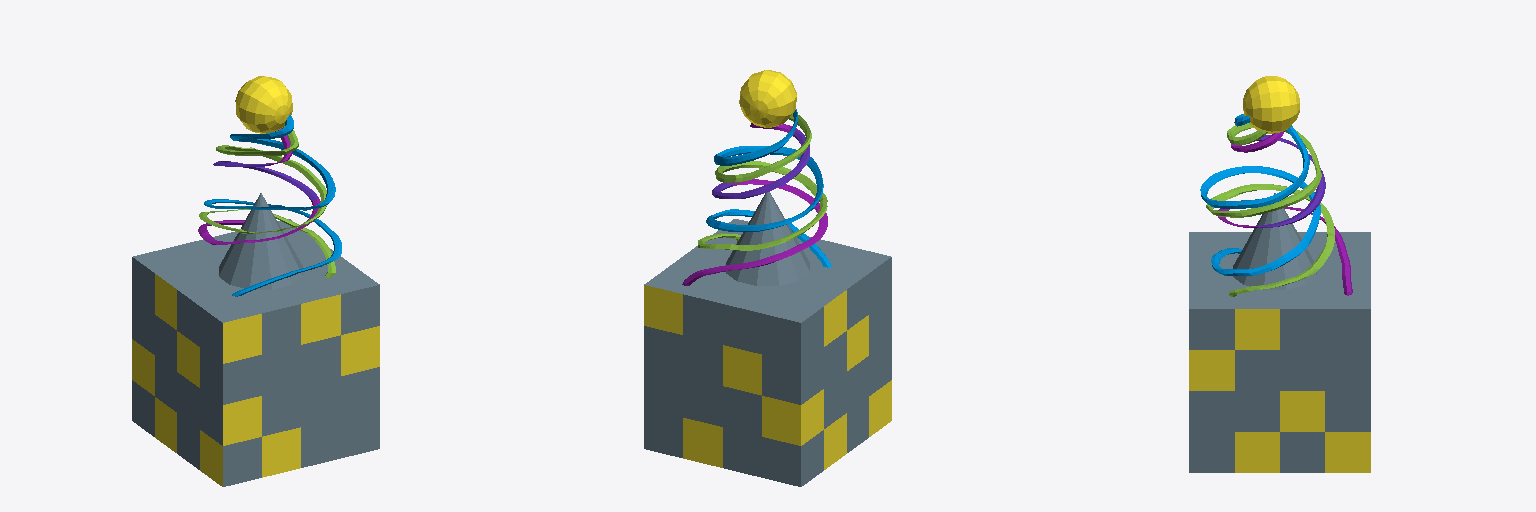
3 renders of one model, left to right at view 1: azimuth 30°, elevation 25°; view 2: azimuth 150°, elevation 25°; view 3: azimuth 270°, elevation 25°, orthographic.
Visible parts, largest first — view 1: group[number redacted], group[number redacted], group[number redacted], group[number redacted], group[number redacted], group[number redacted]; view 2: group[number redacted], group[number redacted], group[number redacted], group[number redacted], group[number redacted], group[number redacted]; view 3: group[number redacted], group[number redacted], group[number redacted], group[number redacted], group[number redacted], group[number redacted].
Part boxes in pixels (x1,y1,x2,y2): group[number redacted]: (132, 219, 379, 486); group[number redacted]: (219, 193, 302, 289); group[number redacted]: (204, 115, 341, 296); group[number redacted]: (235, 76, 292, 133); group[number redacted]: (199, 126, 335, 277); group[number redacted]: (198, 128, 320, 244); group[number redacted]: (644, 219, 891, 486); group[number redacted]: (726, 192, 809, 285); group[number redacted]: (706, 109, 831, 267); group[number redacted]: (682, 123, 827, 285); group[number redacted]: (698, 114, 827, 250); group[number redacted]: (739, 70, 796, 127); group[number redacted]: (1189, 232, 1370, 472); group[number redacted]: (1200, 114, 1320, 275); group[number redacted]: (1233, 193, 1316, 289); group[number redacted]: (1206, 123, 1334, 296); group[number redacted]: (1243, 76, 1299, 133); group[number redacted]: (1218, 131, 1352, 295).
Bounding box in the file's own units: 2.01 × 4.37 × 2.01.